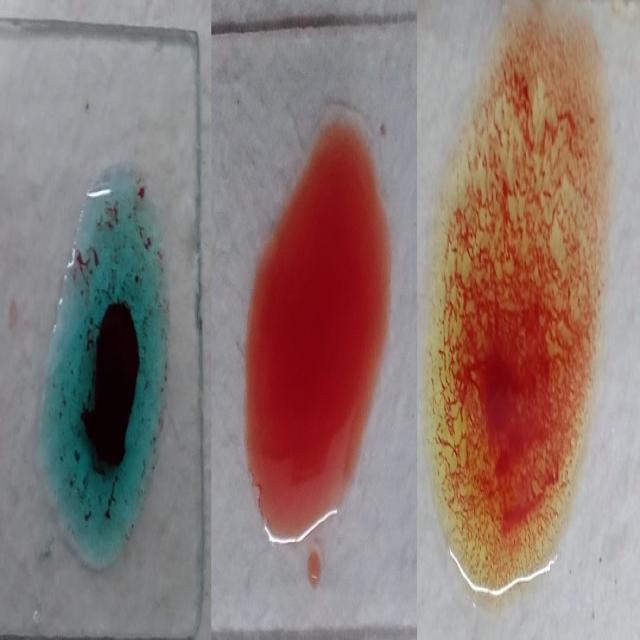A: (46, 178, 171, 569)
B: (430, 41, 599, 589)
